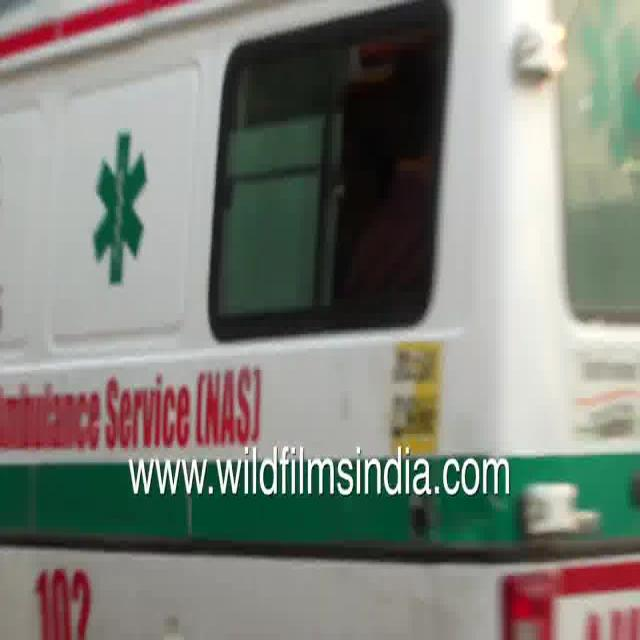ambulance: (3, 119, 622, 640)
